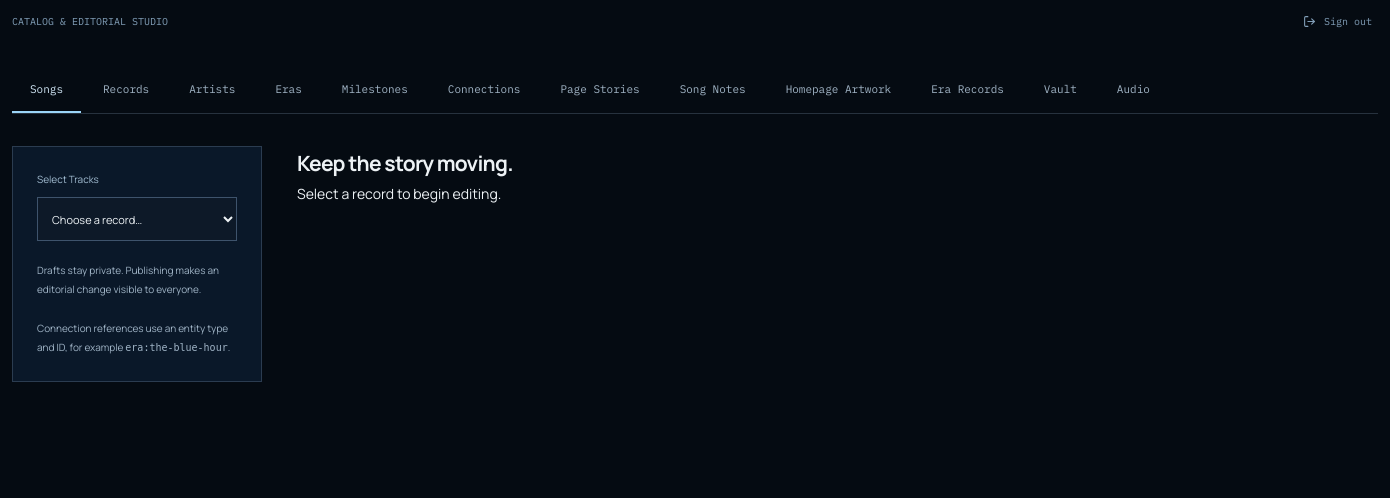
Test: a new connection keeps the draft ID when subsequently published
Click the button "Connections" at point(484, 90), box [430,67,538,113]
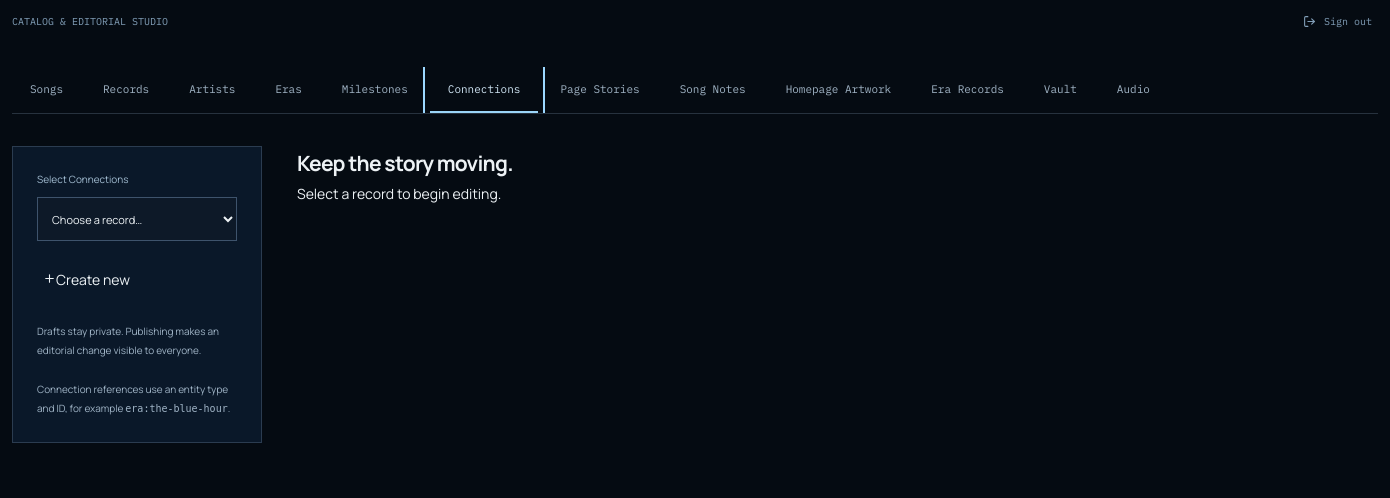
Click the button "Create new" at point(86, 280), box [37,258,136,302]
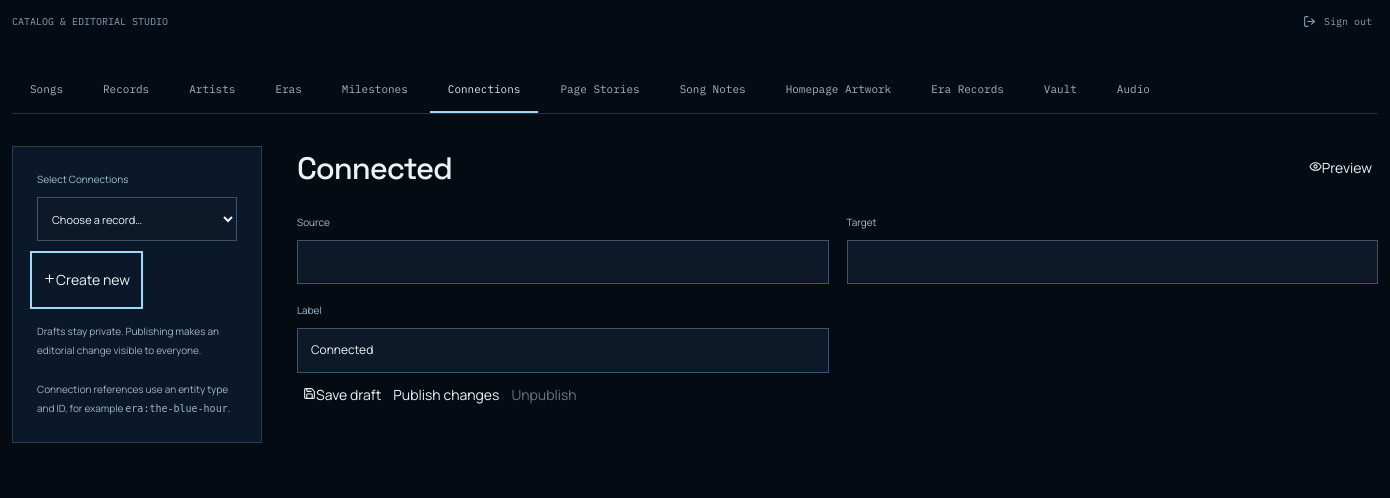
Type "era:the-blue-hour" into the field labelled "source" at point(563, 262), box [297,240,828,284]
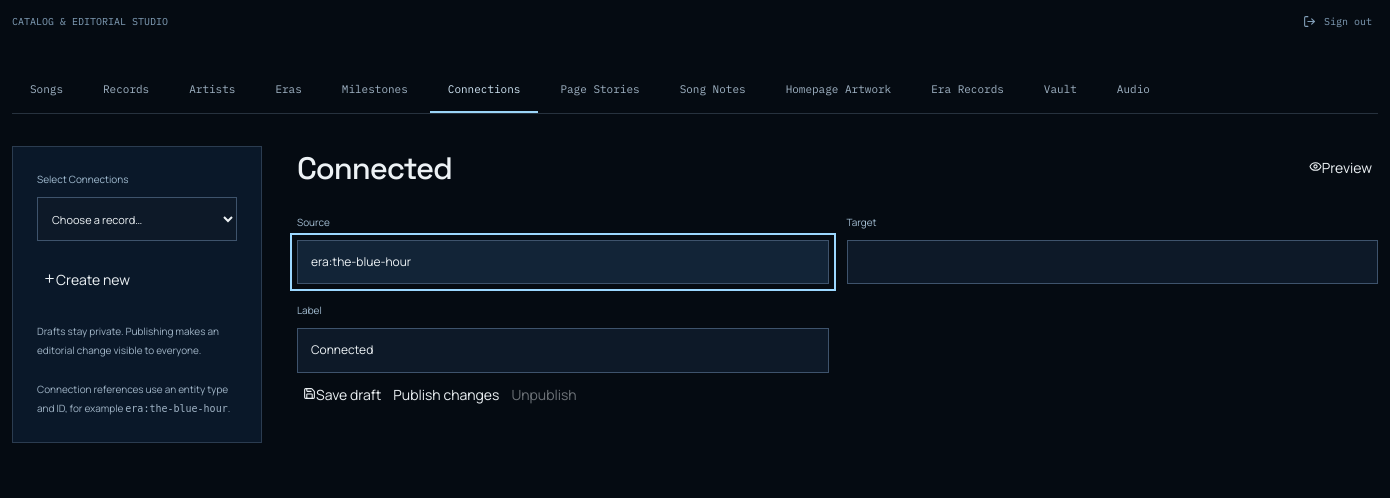
Type "release:take-care-deluxe" into the field labelled "target" at point(1112, 262), box [846,240,1378,284]
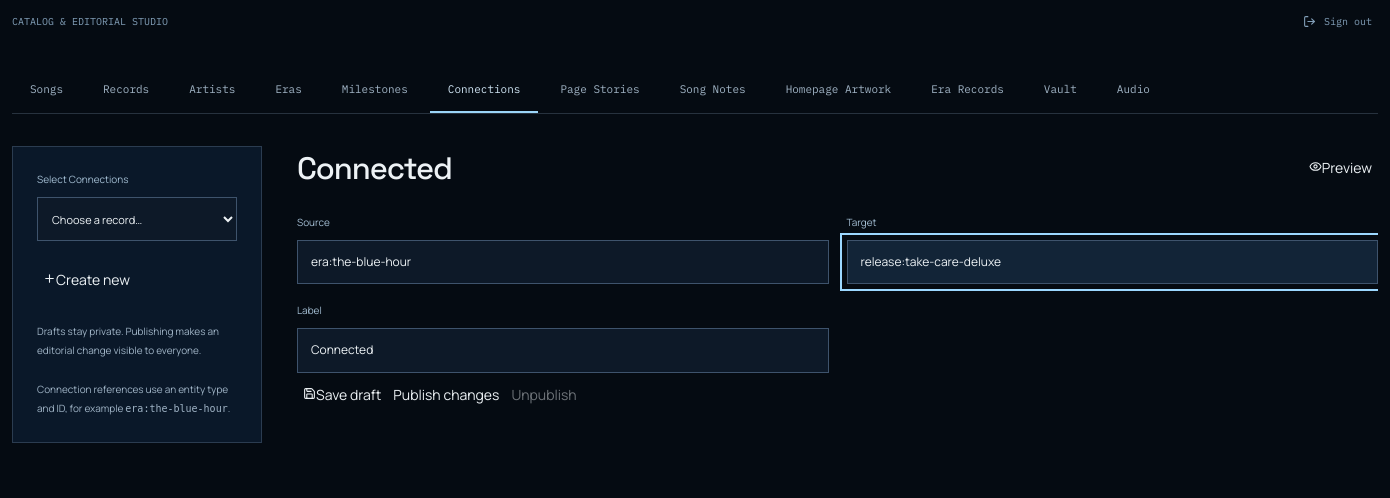
Click the button "Save draft" at point(342, 395), box [297,373,387,417]
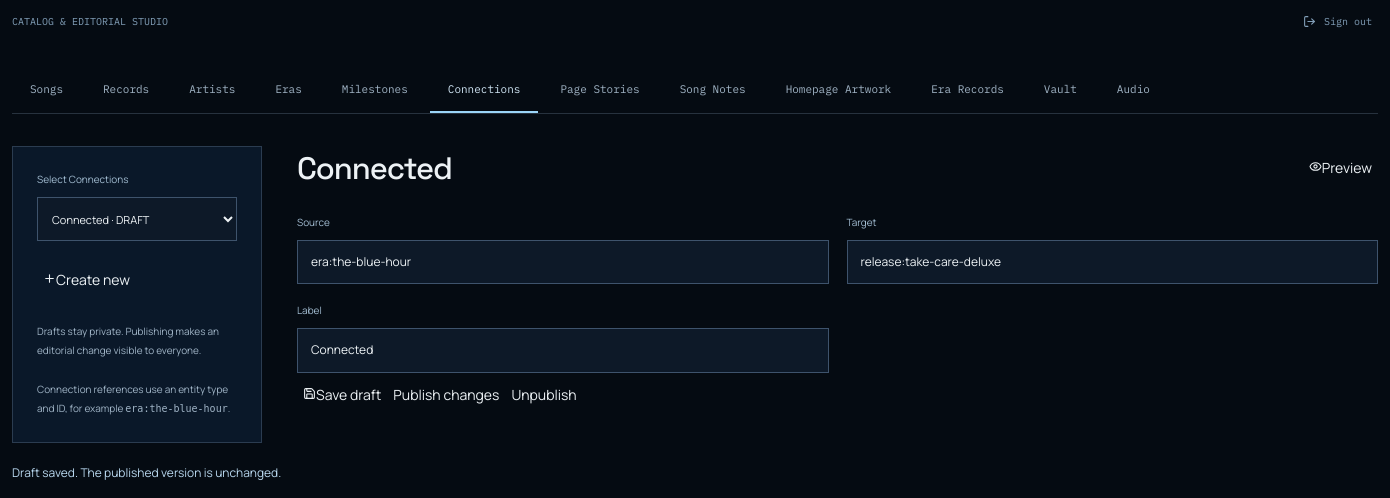
Now the text "Draft saved. The published version is unchanged." is shown, box [12,464,281,481]
Click the button "Publish changes" at point(446, 395), box [387,373,505,417]
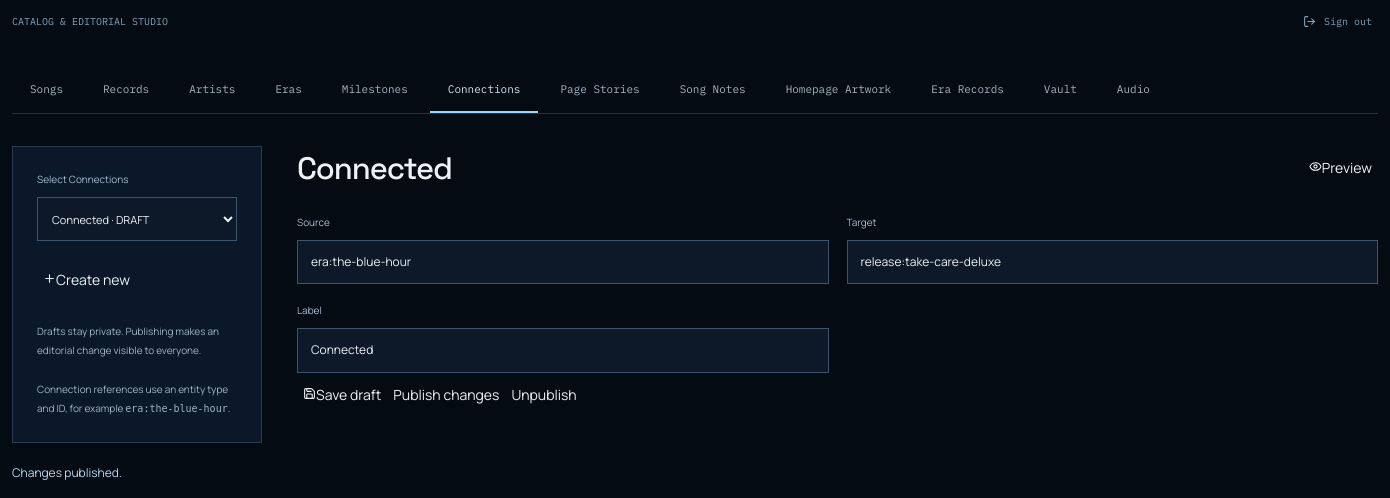
Now the text "Changes published." is shown, box [12,464,122,481]
